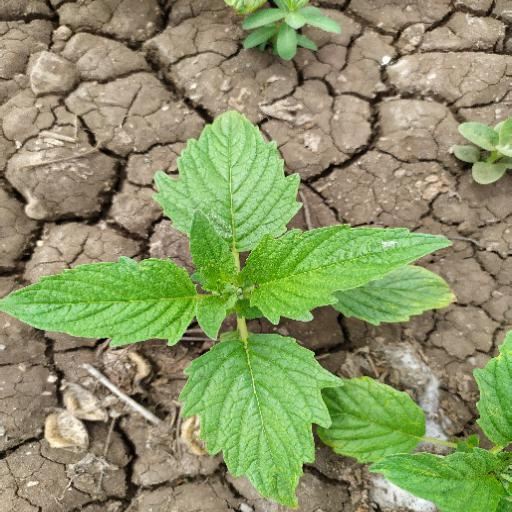crop: (15, 112, 460, 512)
